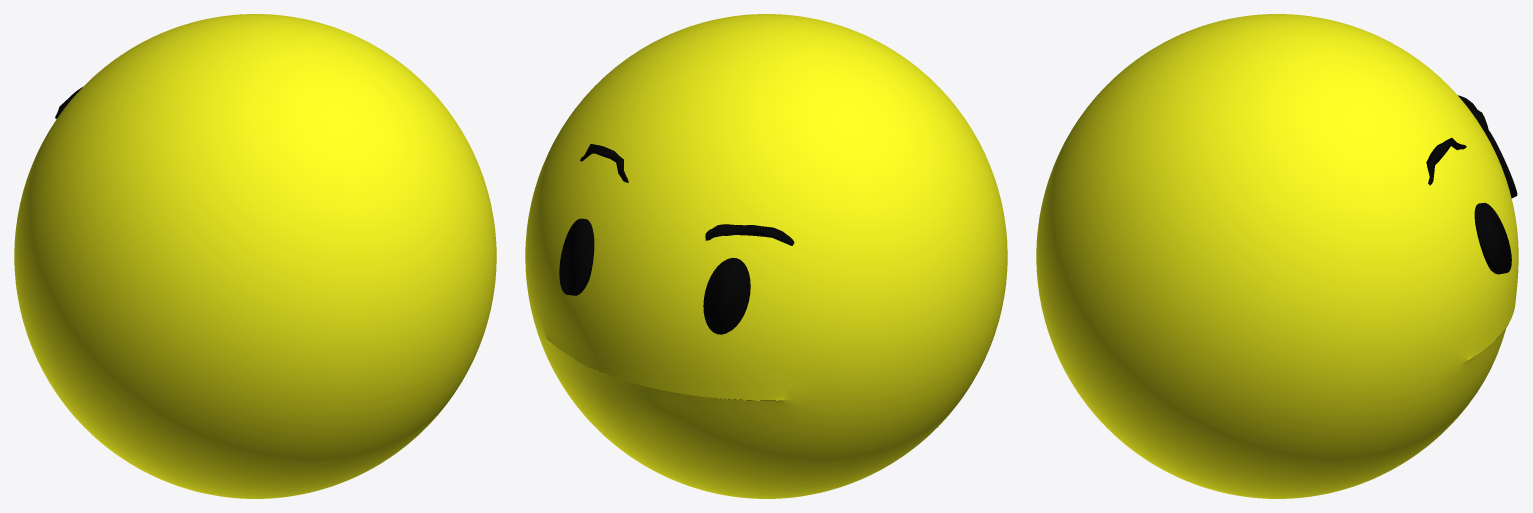
Rendered from [3] leftBrow.obj.
The picture shows the model from 3 angles, left to right: view 1: azimuth 30°, elevation 25°; view 2: azimuth 150°, elevation 25°; view 3: azimuth 270°, elevation 25°; orthographic projection.
Visible parts, largest first — view 1: head_Sphere.002; view 2: head_Sphere.002, rightEye_Cylinder.001, leftEye_Cylinder.002, rightEyebrow_Cylinder.005, leftEyebrow_Cylinder.003; view 3: head_Sphere.002, leftEye_Cylinder.002, leftEyebrow_Cylinder.003.
Part boxes in pixels (<box>): head_Sphere.002: <box>14,14,496,498</box>; head_Sphere.002: <box>525,14,1007,498</box>; rightEye_Cylinder.001: <box>703,257,750,334</box>; leftEye_Cylinder.002: <box>559,218,594,295</box>; rightEyebrow_Cylinder.005: <box>705,224,794,245</box>; leftEyebrow_Cylinder.003: <box>580,144,628,182</box>; head_Sphere.002: <box>1036,14,1518,498</box>; leftEye_Cylinder.002: <box>1474,202,1511,274</box>; leftEyebrow_Cylinder.003: <box>1426,137,1466,185</box>.
Size of the model in its own units: 3.65 by 3.69 by 3.65.
